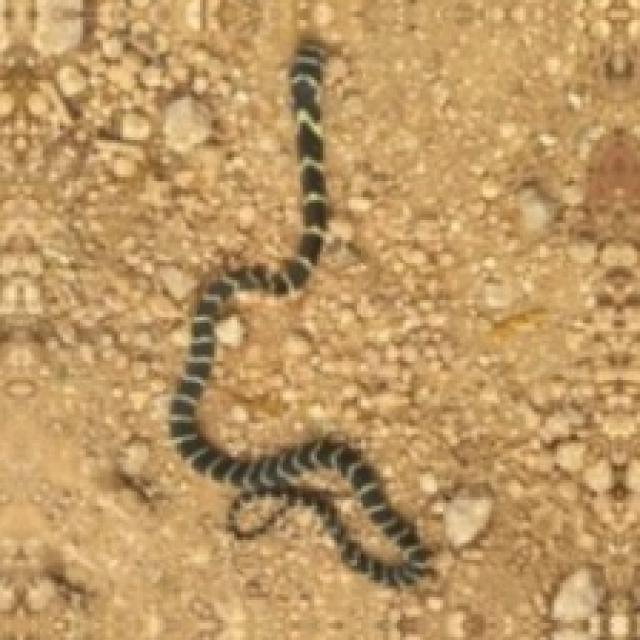king cobra: (169, 37, 429, 583)
